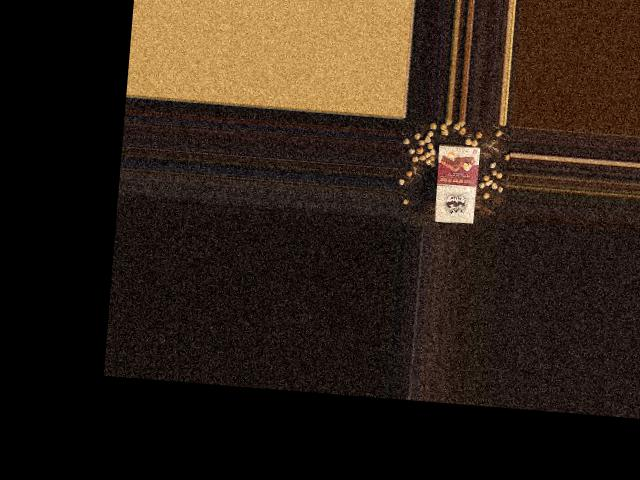chocolate: (429, 141, 482, 226)
